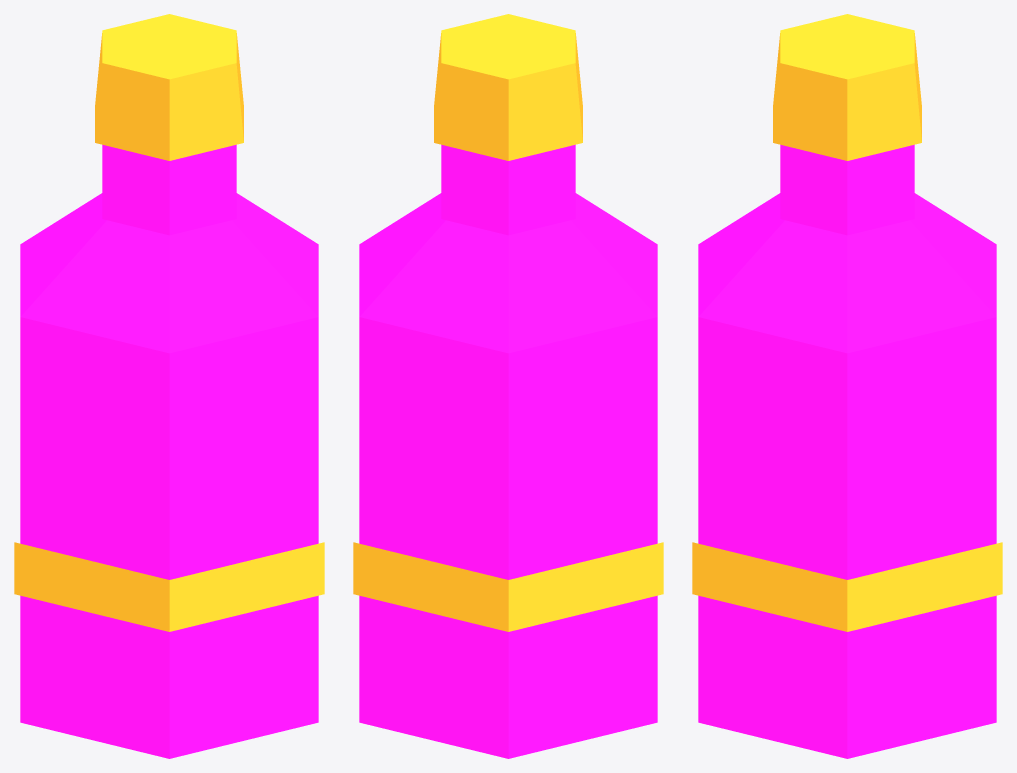
Rendered from superior_health_potion.glb.
The picture shows the model from 3 angles, left to right: view 1: azimuth 30°, elevation 25°; view 2: azimuth 150°, elevation 25°; view 3: azimuth 270°, elevation 25°; orthographic projection.
Visible parts, largest first — view 1: superior_health_potion; view 2: superior_health_potion; view 3: superior_health_potion.
Part boxes in pixels (left/top/right/bottom): superior_health_potion: left=14, top=14, right=324, bottom=758; superior_health_potion: left=353, top=14, right=663, bottom=758; superior_health_potion: left=692, top=14, right=1002, bottom=758.
Size of the model in its own units: 0.3125 by 0.615 by 0.2706.
